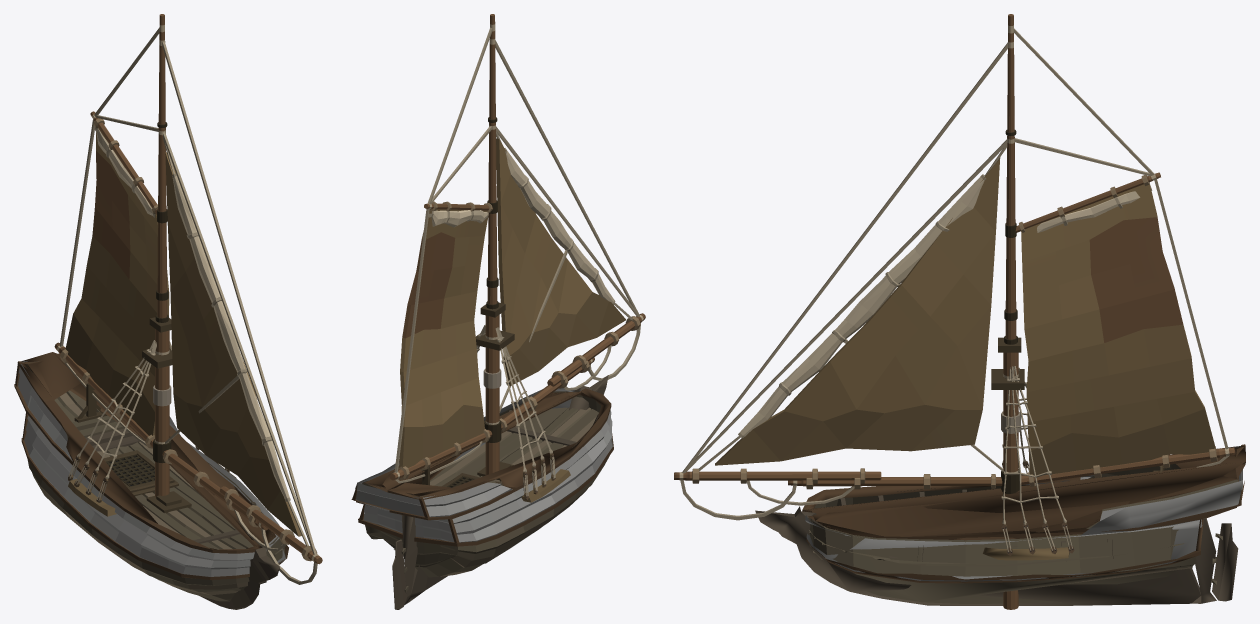
File: medium_ship_brown.glb
The picture shows the model from 3 angles, left to right: view 1: azimuth 30°, elevation 25°; view 2: azimuth 150°, elevation 25°; view 3: azimuth 270°, elevation 25°; orthographic projection. The views are drawn at different scales.
Visible parts, largest first — view 1: SM_Veh_Boat_Medium_01_Hull_Pirate, SM_Veh_Boat_Medium_01_Sails_Pirate, SM_Veh_Boat_Medium_01_Sails_Up, SM_Veh_Boat_Medium_01_Rigging; view 2: SM_Veh_Boat_Medium_01_Sails_Pirate, SM_Veh_Boat_Medium_01_Hull_Pirate, SM_Veh_Boat_Medium_01_Sails_Up, SM_Veh_Boat_Medium_01_Rigging; view 3: SM_Veh_Boat_Medium_01_Sails_Pirate, SM_Veh_Boat_Medium_01_Hull_Pirate, SM_Veh_Boat_Medium_01_Sails_Up, SM_Veh_Boat_Medium_01_Rigging.
Boxes of the visible parts, bbox=[...] form: SM_Veh_Boat_Medium_01_Hull_Pirate: bbox=[14, 352, 288, 609]; SM_Veh_Boat_Medium_01_Sails_Pirate: bbox=[65, 127, 301, 536]; SM_Veh_Boat_Medium_01_Sails_Up: bbox=[54, 14, 322, 584]; SM_Veh_Boat_Medium_01_Rigging: bbox=[68, 340, 229, 502]; SM_Veh_Boat_Medium_01_Sails_Pirate: bbox=[399, 138, 625, 467]; SM_Veh_Boat_Medium_01_Hull_Pirate: bbox=[351, 375, 613, 609]; SM_Veh_Boat_Medium_01_Sails_Up: bbox=[389, 14, 645, 483]; SM_Veh_Boat_Medium_01_Rigging: bbox=[476, 325, 555, 500]; SM_Veh_Boat_Medium_01_Sails_Pirate: bbox=[715, 157, 1215, 475]; SM_Veh_Boat_Medium_01_Hull_Pirate: bbox=[755, 444, 1245, 605]; SM_Veh_Boat_Medium_01_Sails_Up: bbox=[674, 14, 1235, 609]; SM_Veh_Boat_Medium_01_Rigging: bbox=[1001, 366, 1074, 555].
Bounding box in the file's own units: 5.07 × 18.99 × 16.64.
Materials: 4 (4 with a texture image).
